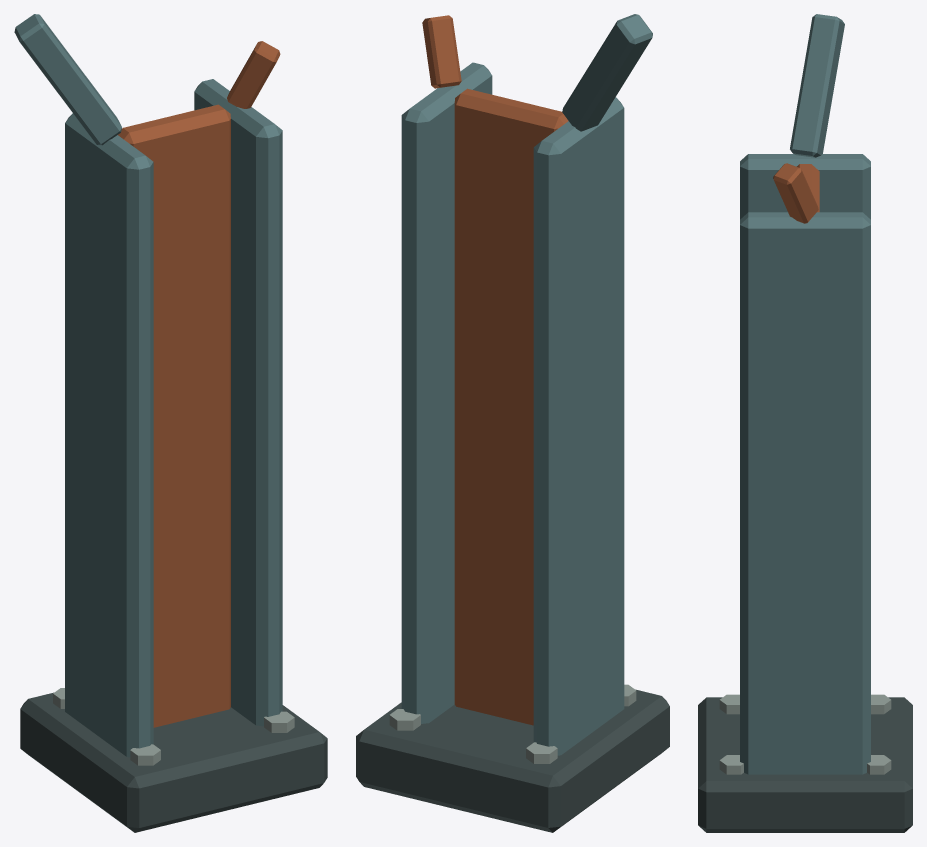
Rendered from Column_Broken.glb.
3 views of the same model, side by side, from view 1: azimuth 30°, elevation 25°; view 2: azimuth 150°, elevation 25°; view 3: azimuth 270°, elevation 25° (orthographic). The views are drawn at different scales.
Visible parts, largest first — view 1: Column_Broken; view 2: Column_Broken; view 3: Column_Broken.
Boxes of the visible parts, bbox=[...] form: Column_Broken: bbox=[14, 14, 327, 832]; Column_Broken: bbox=[356, 14, 669, 832]; Column_Broken: bbox=[698, 14, 912, 832].
Size of the model in its own units: 1.1 by 3.32 by 0.9.
